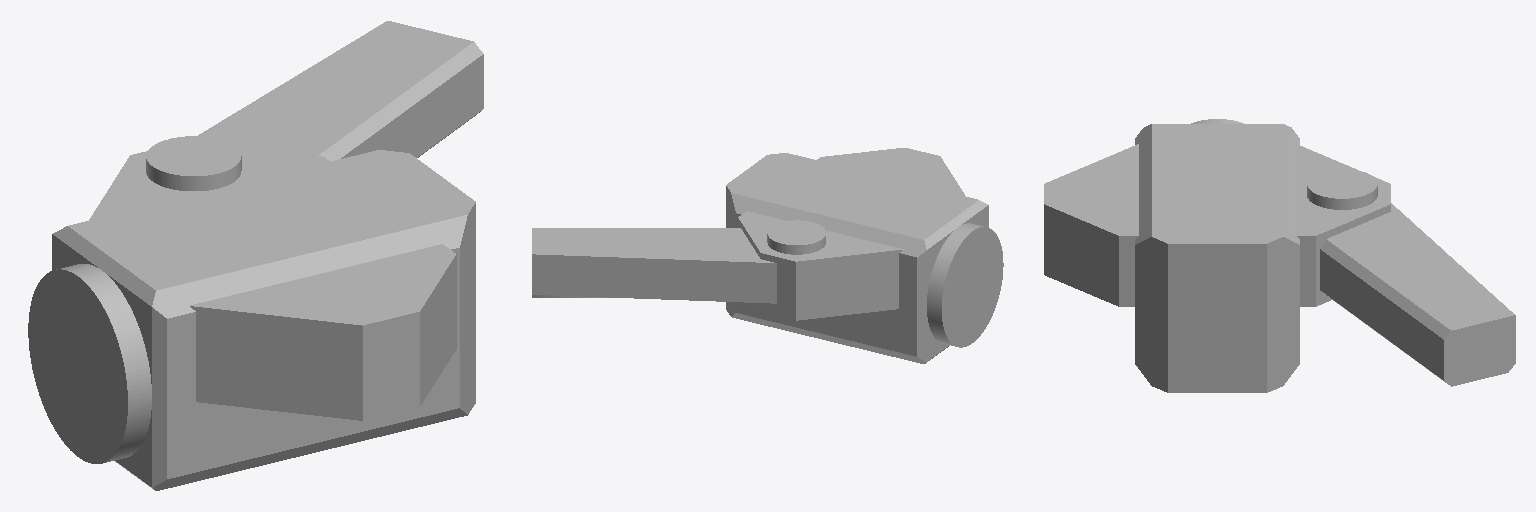
URDF robot description (QARM):
<?xml version="1.0" encoding="utf-8"?>
<!--
    ###################################################################################################################
    Note that all mass/inertial values are examples values only. They are not representative of the actual components.
    ###################################################################################################################
-->

<robot name="QARM">
  <link name="world"/>
	<joint name="world_base_joint" type="fixed">
        <origin rpy="0 0 0" xyz="0 0 0"/>
        <parent link="world"/>
        <child link="base_link"/>
    </joint>
  <link name="base_link">
    <inertial>
      <origin
        xyz="0.000529200576288575 -2.23307396420992E-06 0.0267852902177001"
        rpy="0 0 0" />
      <mass
        value="3.89847036294307" />
      <inertia
        ixx="0.0259717926187233"
        ixy="7.41706820354147E-07"
        ixz="-9.20327430275286E-08"
        iyy="0.0237418182185852"
        iyz="6.90408382921997E-11"
        izz="0.048730018421969" />
    </inertial>
    <visual>
      <origin
        xyz="0 0 0"
        rpy="0 0 0" />
      <geometry>
        <mesh
          filename="package://QARM/meshes/base_link.STL"/>
      </geometry>
      <material
        name="">
        <color
          rgba="0.752941176470588 0.752941176470588 0.752941176470588 1"/>
      </material>
    </visual>
    <collision>
      <origin
        xyz="0 0 0"
        rpy="0 0 0" />
      <geometry>
        <mesh
          filename="package://QARM/meshes/base_link.STL"/>
      </geometry>
    </collision>
  </link>
  <link
    name="YAW">
    <inertial>
      <origin
        xyz="9.37418676855843E-09 -3.48810780368004E-09 0.115813977186301"
        rpy="0 0 0" />
      <mass
        value="0.701518504018672" />
      <inertia
        ixx="0.000478980181395404"
        ixy="3.49149750193703E-12"
        ixz="5.35348095946474E-11"
        iyy="0.000450830880977554"
        iyz="9.21997569253762E-11"
        izz="0.000625067532631923" />
    </inertial>
    <visual>
      <origin
        xyz="0 0 0"
        rpy="0 0 0" />
      <geometry>
        <mesh
          filename="package://QARM/meshes/YAW.STL" />
      </geometry>
      <material
        name="">
        <color
          rgba="0.752941176470588 0.752941176470588 0.752941176470588 1" />
      </material>
    </visual>
    <collision>
      <origin
        xyz="0 0 0"
        rpy="0 0 0" />
      <geometry>
        <mesh
          filename="package://QARM/meshes/YAW.STL" />
      </geometry>
    </collision>
  </link>
  <joint
    name="YAW"
    type="revolute">
    <origin
      xyz="0 0 0"
      rpy="0 0 0" />
    <parent
      link="base_link" />
    <child
      link="YAW" />
    <axis
      xyz="0 0 1" />
    <limit
      lower="-2.967"
      upper="2.967"
      effort="0"
      velocity="0" />
  </joint>
  <link
    name="BICEP">
    <inertial>
      <origin
        xyz="0.0136584263393359 -0.234778864037209 -7.06001931450219E-05"
        rpy="0 0 0" />
      <mass
        value="0.706073338310231" />
      <inertia
        ixx="0.00242444522090698"
        ixy="2.42682372909241E-06"
        ixz="-6.26703067273348E-07"
        iyy="0.000274342515078279"
        iyz="1.69726051287685E-06"
        izz="0.00246773570290634" />
    </inertial>
    <visual>
      <origin
        xyz="0 0 0"
        rpy="0 0 0" />
      <geometry>
        <mesh
          filename="package://QARM/meshes/BICEP.STL" />
      </geometry>
      <material
        name="">
        <color
          rgba="0.752941176470588 0.752941176470588 0.752941176470588 1" />
      </material>
    </visual>
    <collision>
      <origin
        xyz="0 0 0"
        rpy="0 0 0" />
      <geometry>
        <mesh
          filename="package://QARM/meshes/BICEP.STL" />
      </geometry>
    </collision>
  </link>
  <joint
    name="SHOULDER"
    type="revolute">
    <origin
      xyz="0 0 0.1397714"
      rpy="-1.5707963267949 0 0" />
    <parent
      link="YAW" />
    <child
      link="BICEP" />
    <axis
      xyz="0 0 1" />
    <limit
      lower="-1.483"
      upper="1.483"
      effort="0"
      velocity="0" />
  </joint>
  <link
    name="FOREARM">
    <inertial>
      <origin
        xyz="0.0372712542033594 0.155357218514742 0.000271723941997439"
        rpy="0 0 0" />
      <mass
        value="0.4296669212638" />
      <inertia
        ixx="0.000344487673462402"
        ixy="-2.89506781372207E-05"
        ixz="4.98141800994188E-07"
        iyy="0.000149695456153606"
        iyz="2.97325983931059E-06"
        izz="0.000297718151262944" />
    </inertial>
    <visual>
      <origin
        xyz="0 0 0"
        rpy="0 0 0" />
      <geometry>
        <mesh
          filename="package://QARM/meshes/FOREARM.STL" />
      </geometry>
      <material
        name="">
        <color
          rgba="0.752941176470588 0.752941176470588 0.752941176470588 1" />
      </material>
    </visual>
    <collision>
      <origin
        xyz="0 0 0"
        rpy="0 0 0" />
      <geometry>
        <mesh
          filename="package://QARM/meshes/FOREARM.STL" />
      </geometry>
    </collision>
  </link>
  <joint
    name="ELBOW"
    type="revolute">
    <origin
      xyz="0.0500000000000004 -0.350000000000015 0"
      rpy="0 0 -1.42889927219074" />
    <parent
      link="BICEP" />
    <child
      link="FOREARM" />
    <axis
      xyz="0 0 1" />
    <limit
      lower="-1.658"
      upper="1.309"
      effort="0"
      velocity="0" />
  </joint>
  <link
    name="END-EFFECTOR">
    <inertial>
      <origin
        xyz="-7.14013714436801E-05 -4.06287319420589E-05 0.0057237846257307"
        rpy="0 0 0" />
      <mass
        value="0.025331269641348" />
      <inertia
        ixx="2.26806595610621E-06"
        ixy="7.98741449900658E-09"
        ixz="1.08626792635935E-08"
        iyy="2.22929725748166E-06"
        iyz="-5.49899749477752E-09"
        izz="4.00602755679902E-06" />
    </inertial>
    <visual>
      <origin
        xyz="0 0 0"
        rpy="0 0 0" />
      <geometry>
        <mesh
          filename="package://QARM/meshes/END-EFFECTOR.STL" />
      </geometry>
      <material
        name="">
        <color
          rgba="0.752941176470588 0.752941176470588 0.752941176470588 1" />
      </material>
    </visual>
    <collision>
      <origin
        xyz="0 0 0"
        rpy="0 0 0" />
      <geometry>
        <mesh
          filename="package://QARM/meshes/END-EFFECTOR.STL" />
      </geometry>
    </collision>
  </link>
  <joint
    name="WRIST"
    type="revolute">
    <origin
      xyz="0.0336611536380097 0.235607569369425 0"
      rpy="-1.5707963267949 0 -0.141897054604159" />
    <parent
      link="FOREARM" />
    <child
      link="END-EFFECTOR" />
    <axis
      xyz="0 0 1" />
    <limit
      lower="-3.010"
      upper="3.010"
      effort="0"
      velocity="0" />
  </joint>
  <link
    name="GRIPPER_BASE">
    <inertial>
      <origin
        xyz="0 0 0"
        rpy="0 0 0" />
      <mass
        value="0.05" />
      <inertia
        ixx="0.0001"
        ixy="0"
        ixz="0"
        iyy="0.0001"
        iyz="0"
        izz="0.0001" />
    </inertial>
    <visual>
      <origin
        xyz="0 0 0"
        rpy="0 0 0" />
      <geometry>
        <mesh
          filename="package://QARM/meshes/gripper-base.stl"
          scale="0.001 0.001 0.001" />
      </geometry>
      <material
        name="">
        <color
          rgba="0.752941176470588 0.752941176470588 0.752941176470588 1" />
      </material>
    </visual>
    <collision>
      <origin
        xyz="0 0 0"
        rpy="0 0 0" />
      <geometry>
        <mesh
          filename="package://QARM/meshes/gripper-base.stl"
          scale="0.001 0.001 0.001" />
      </geometry>
    </collision>
  </link>
  <joint
    name="GRIPPER_BASE_FIXED"
    type="fixed">
    <origin
      xyz="0 0 0"
      rpy="0 0 0" />
    <parent
      link="END-EFFECTOR" />
    <child
      link="GRIPPER_BASE" />
  </joint>
  <link
    name="GRIPPER_LINK1A">
    <inertial>
      <origin
        xyz="0 0 0"
        rpy="0 0 0" />
      <mass
        value="0.02" />
      <inertia
        ixx="5e-05"
        ixy="0"
        ixz="0"
        iyy="5e-05"
        iyz="0"
        izz="5e-05" />
    </inertial>
    <visual>
      <origin
        xyz="0 0 0"
        rpy="0 0 0" />
      <geometry>
        <mesh
          filename="package://QARM/meshes/gripper-link1a.stl"
          scale="0.001 0.001 0.001" />
      </geometry>
      <material
        name="">
        <color
          rgba="0.752941176470588 0.752941176470588 0.752941176470588 1" />
      </material>
    </visual>
    <collision>
      <origin
        xyz="0 0 0"
        rpy="0 0 0" />
      <geometry>
        <mesh
          filename="package://QARM/meshes/gripper-link1a.stl"
          scale="0.001 0.001 0.001" />
      </geometry>
    </collision>
  </link>
  <joint
    name="GRIPPER_JOINT1A"
    type="revolute">
    <origin
      xyz="0.02 -0.0303 0.0406"
      rpy="0 0 0" />
    <parent
      link="GRIPPER_BASE" />
    <child
      link="GRIPPER_LINK1A" />
    <axis
      xyz="1 0 0" />
    <limit
      lower="-3.14159"
      upper="3.14159"
      effort="0"
      velocity="0" />
  </joint>
</robot>

--- Facts derived from the render (not from the file) ---
3 views of the same robot in one strip: view 1: azimuth 30°, elevation 25°; view 2: azimuth 150°, elevation 25°; view 3: azimuth 270°, elevation 25° (orthographic).
Robot: QARM — 8 links, 7 joints (5 revolute, 2 fixed); root link world; default pose: all joints at 0.
Visible links, largest first — view 1: GRIPPER_BASE, GRIPPER_LINK1A; view 2: GRIPPER_BASE, GRIPPER_LINK1A; view 3: GRIPPER_BASE, GRIPPER_LINK1A.
Boxes of the visible links, left/top/right/bottom form: GRIPPER_BASE: left=28, top=147, right=475, bottom=490; GRIPPER_LINK1A: left=146, top=21, right=483, bottom=190; GRIPPER_BASE: left=726, top=148, right=1003, bottom=363; GRIPPER_LINK1A: left=532, top=220, right=825, bottom=303; GRIPPER_BASE: left=1044, top=119, right=1390, bottom=392; GRIPPER_LINK1A: left=1307, top=169, right=1515, bottom=386.
Size in the robot's own frame: 0.1163 by 0.1143 by 0.04 metres.
2 mesh visuals loaded from 7 distinct referenced files (2 binary STL); not drawn: 5 (reference not matched to a file when rendering).